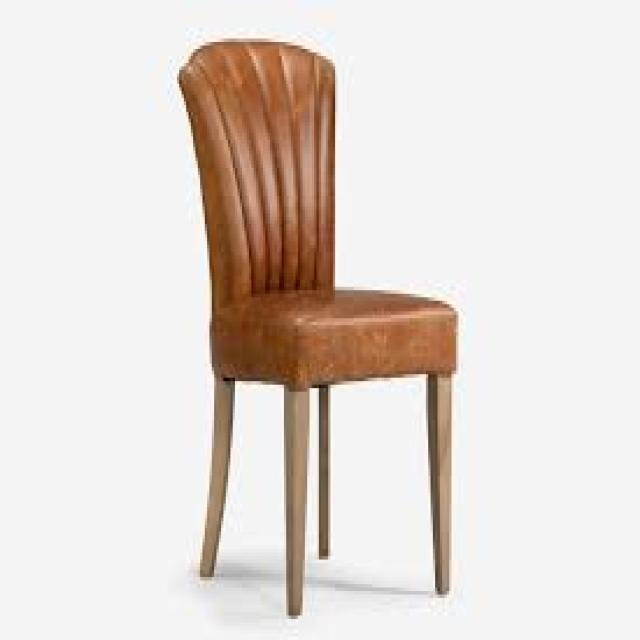chair: (150, 9, 483, 620)
